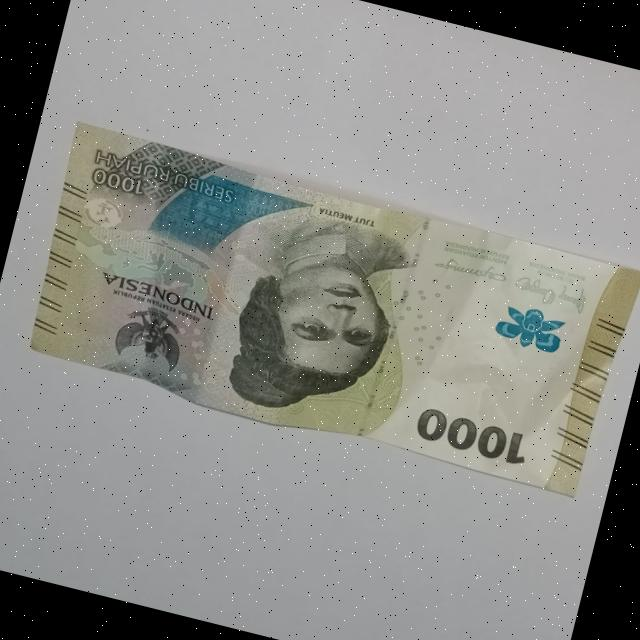1K: (0, 96, 640, 510)
